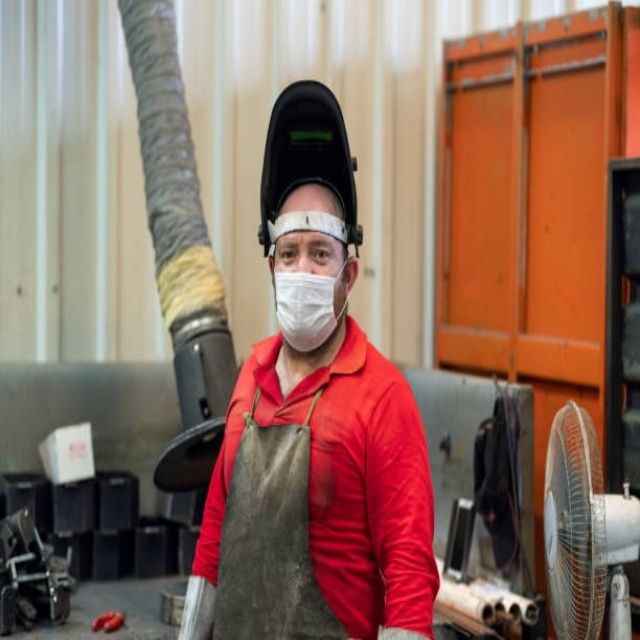Mascara: (272, 256, 347, 349)
Sin_gafas: (276, 235, 338, 273)
